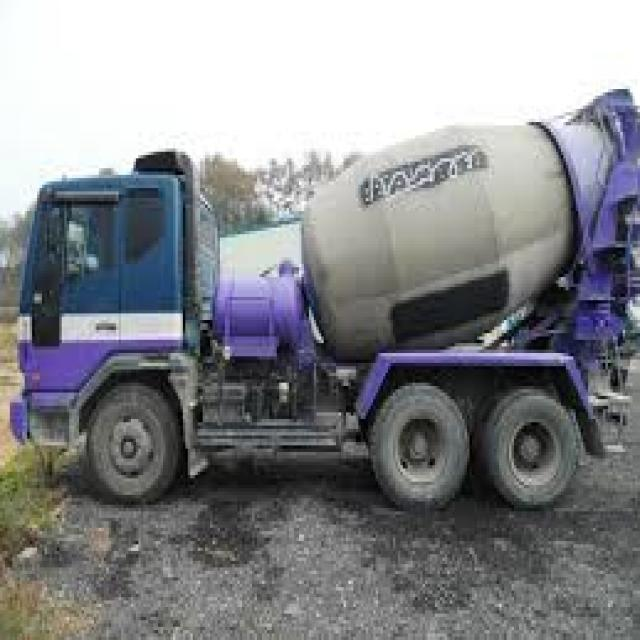Mixer Truck: (6, 86, 640, 514)
